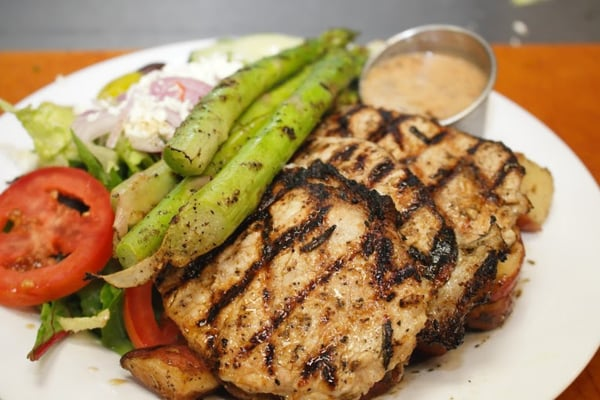curry: (101, 26, 372, 284)
sushi: (359, 23, 498, 135)
